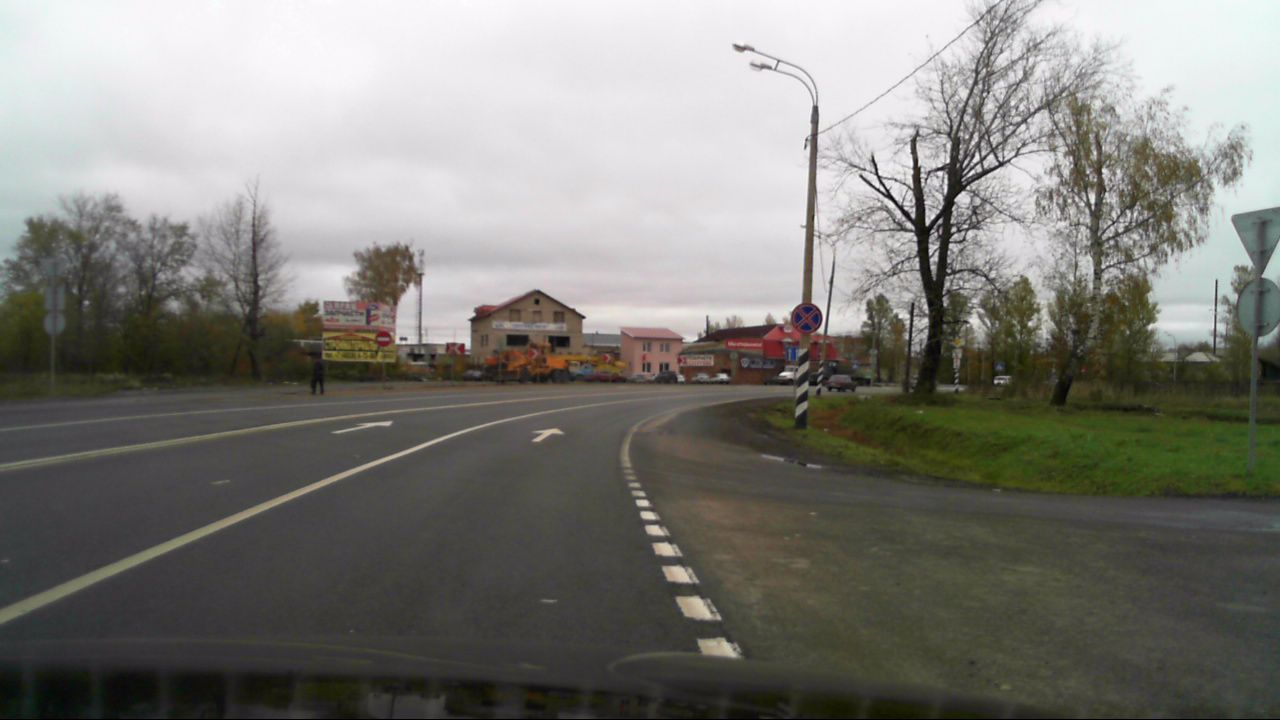No Parking: (789, 303, 822, 334)
